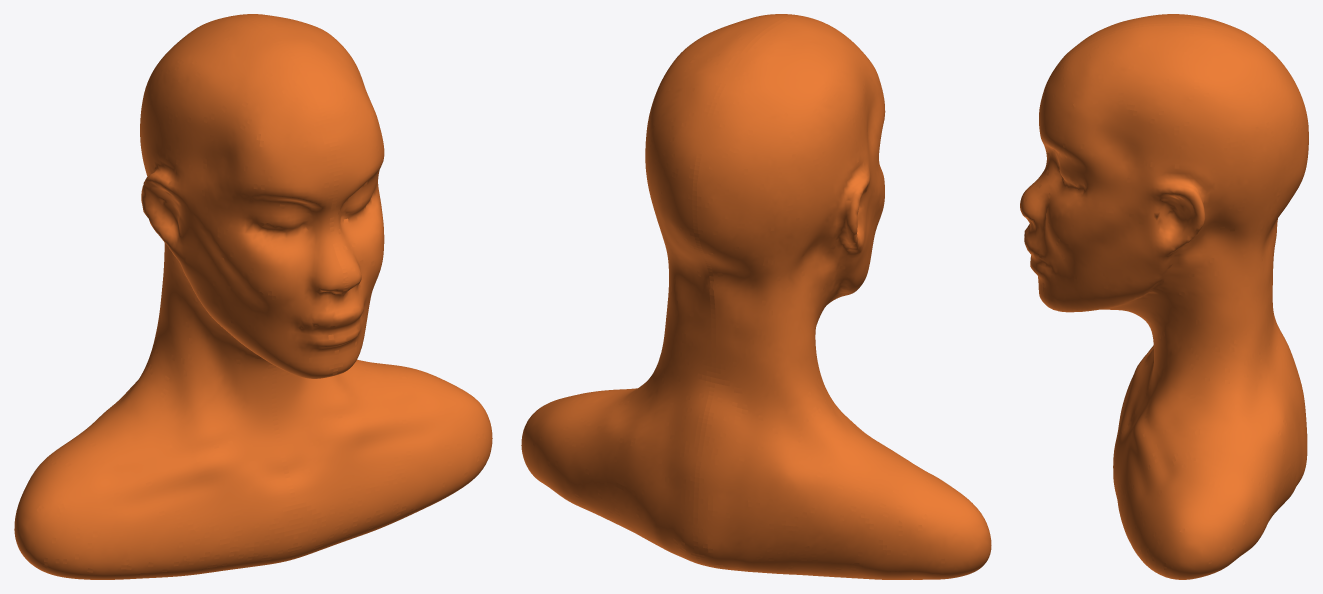
The model's file is custombustlowpoly.glb.
3 renders of one model, left to right at view 1: azimuth 30°, elevation 25°; view 2: azimuth 150°, elevation 25°; view 3: azimuth 270°, elevation 25°, orthographic. The views are drawn at different scales.
Parts seen in each view (by area): view 1: Sphere.003; view 2: Sphere.003; view 3: Sphere.003.
Boxes of the visible parts, x1,y1,x2,y2 form: Sphere.003: (14, 14, 492, 579); Sphere.003: (521, 14, 991, 579); Sphere.003: (1020, 14, 1308, 579).
Size of the model in its own units: 6.59 by 6.99 by 3.81.
